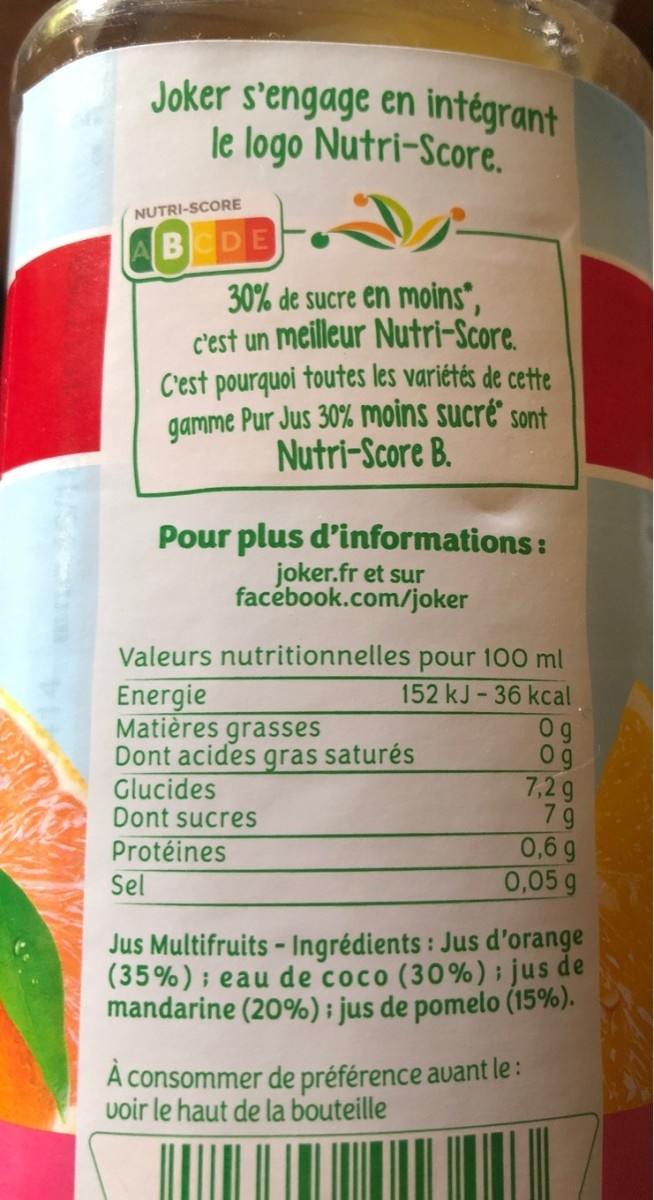column: (117, 680, 417, 894), (488, 683, 580, 895)
table: (106, 641, 586, 912)
